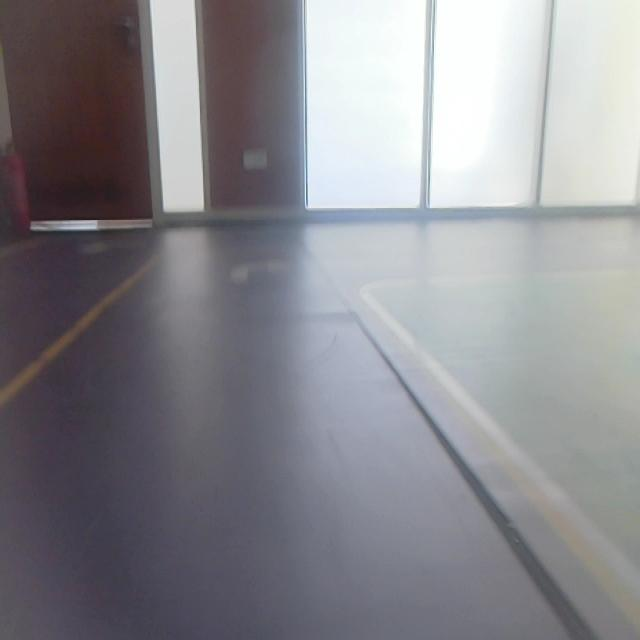left_lane: (0, 253, 164, 412)
right_lane: (369, 292, 640, 629)
